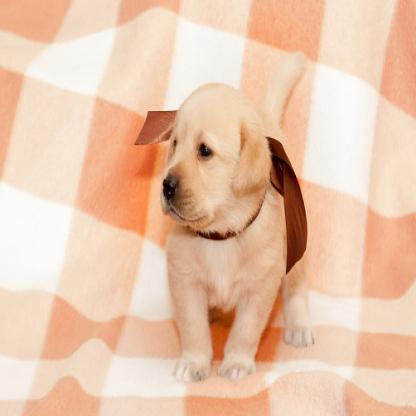Labarador Retriever: (158, 84, 317, 388)
